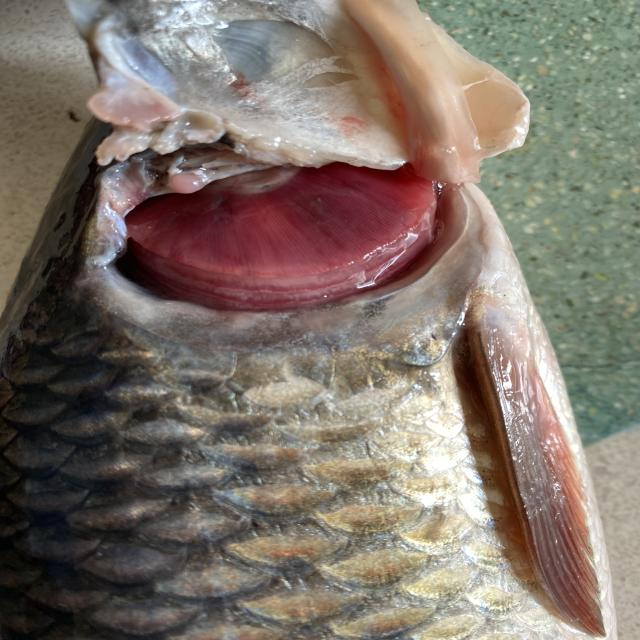Fresh: (62, 134, 484, 330)
